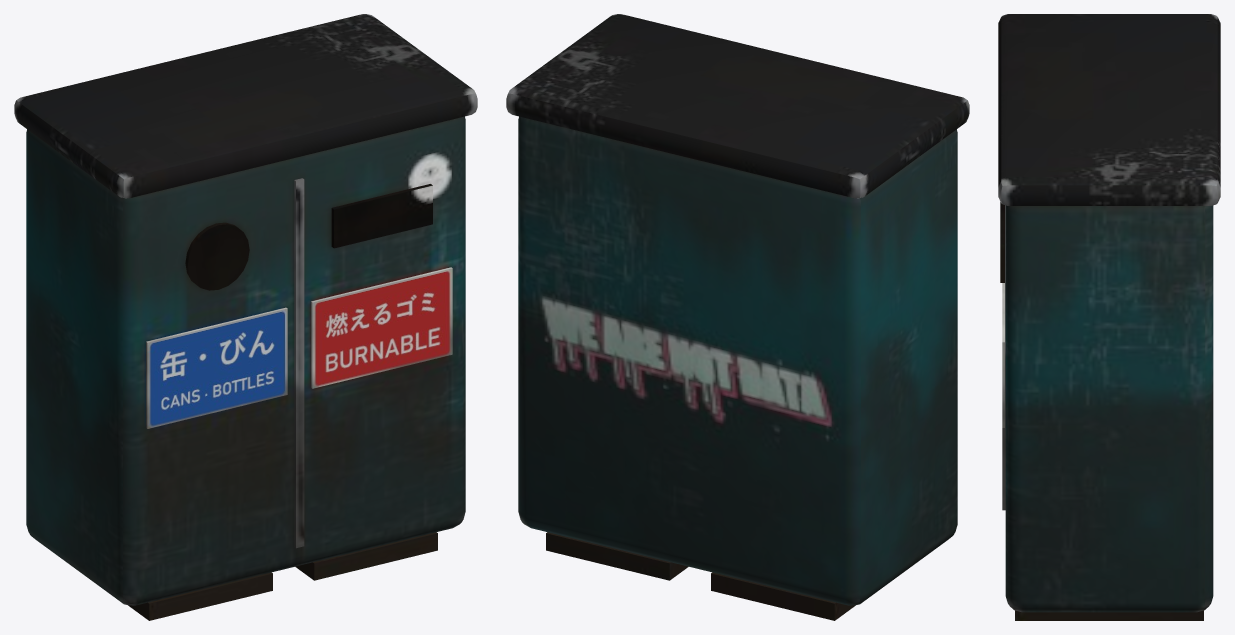
Rendered from trash_bin.glb.
3 renders of one model, left to right at view 1: azimuth 30°, elevation 25°; view 2: azimuth 150°, elevation 25°; view 3: azimuth 270°, elevation 25°, orthographic.
Parts seen in each view (by area): view 1: trash_bin; view 2: trash_bin; view 3: trash_bin.
Boxes of the visible parts, x1,y1,x2,y2 form: trash_bin: [14, 14, 477, 620]; trash_bin: [506, 14, 969, 620]; trash_bin: [998, 14, 1220, 620].
Size of what is drawn, in the model's own units: 0.87 by 1.06 by 0.47.
1 material, 1 textured.
